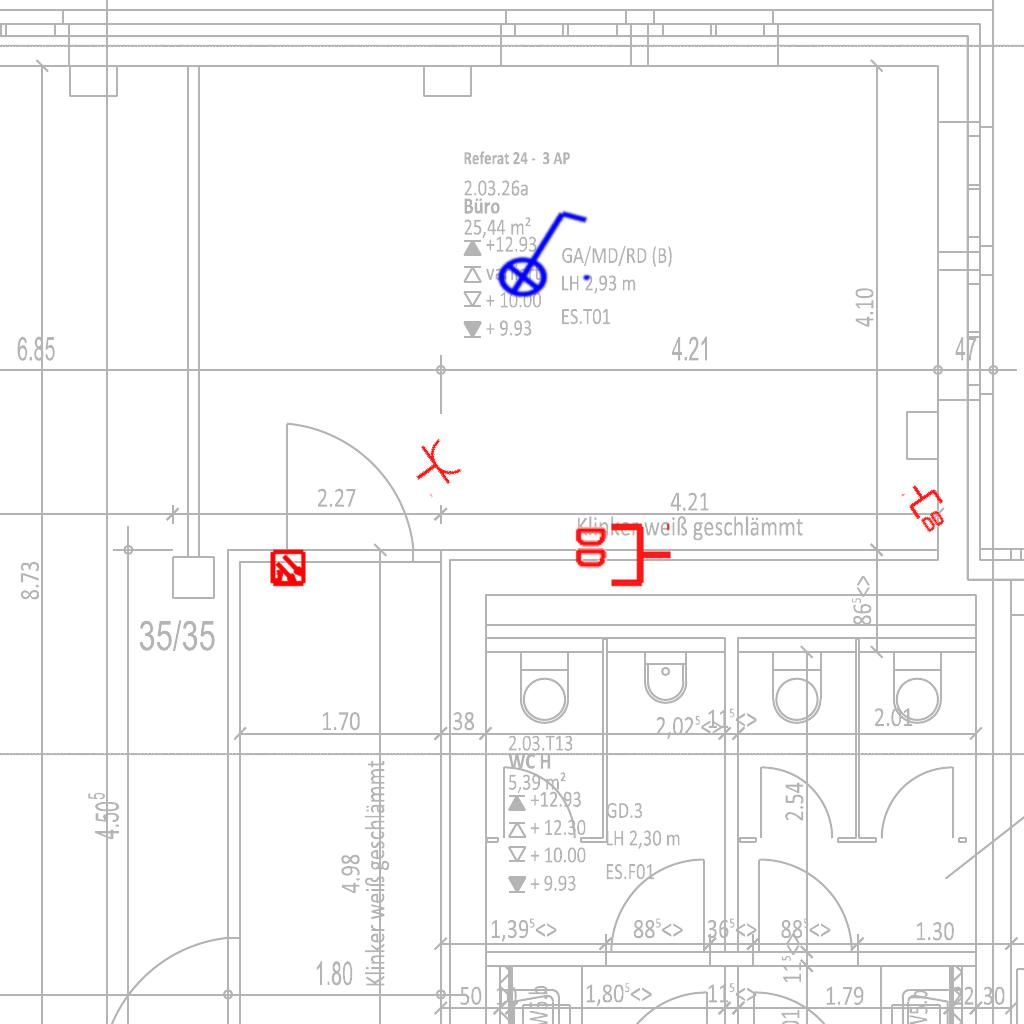Ausschalter_beleuchtet: (484, 203, 596, 299)
Datenanschluss_zweifach: (571, 522, 674, 591), (899, 474, 957, 537)
OT_Multisensormelder_(Kombination_RMO_WMD): (260, 541, 316, 597)
Schukosteckdose_einfach: (402, 434, 467, 500)
